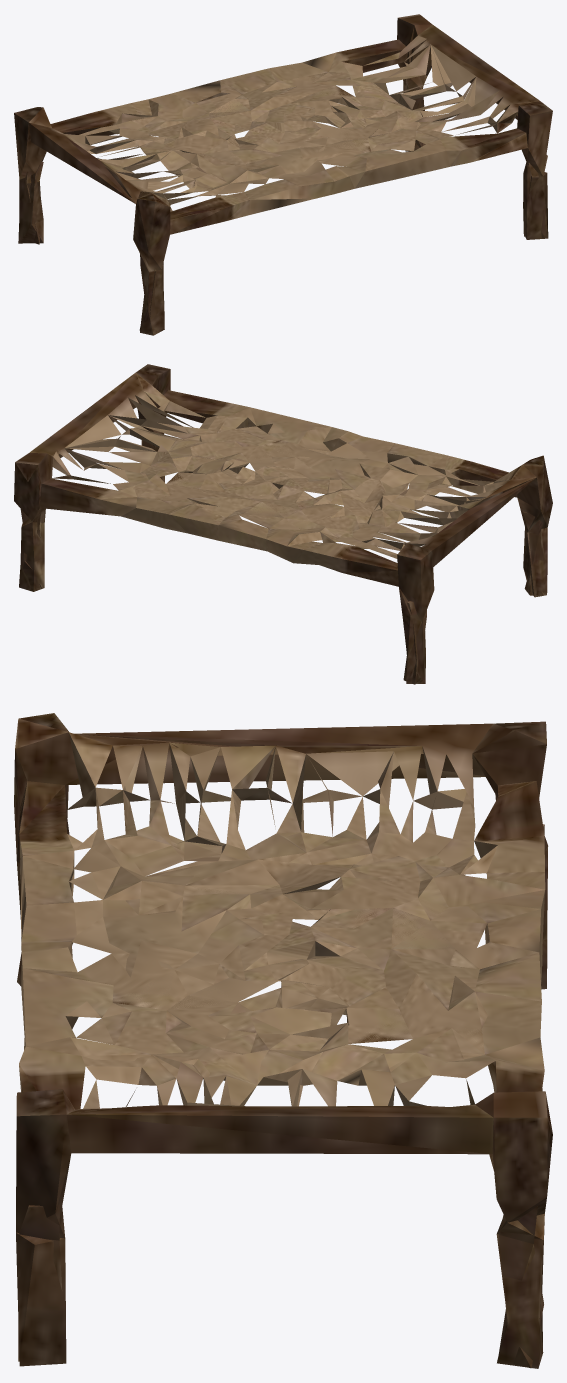
The model's file is angareb.glb.
The picture shows the model from 3 angles, top to bottom: view 1: azimuth 30°, elevation 25°; view 2: azimuth 150°, elevation 25°; view 3: azimuth 270°, elevation 25°; orthographic projection. The views are drawn at different scales.
Bounding box in the file's own units: 1.88 × 0.5867 × 1.08.
1 material, 1 textured.
